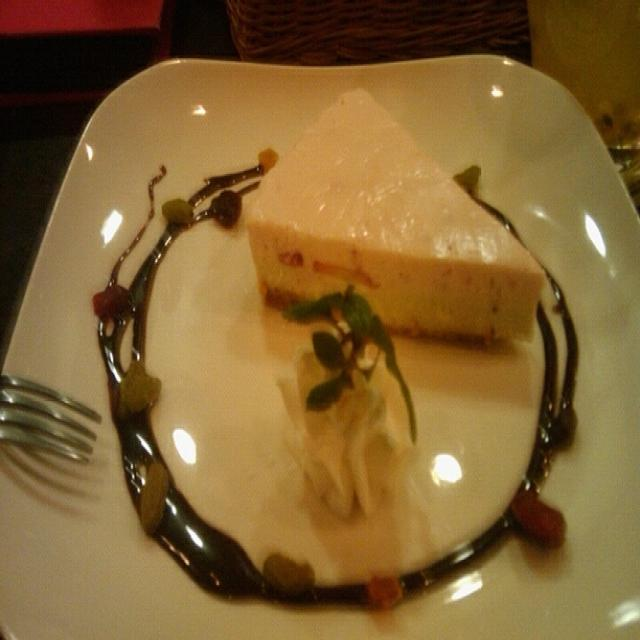Rare cheese cake: (202, 80, 589, 527)
